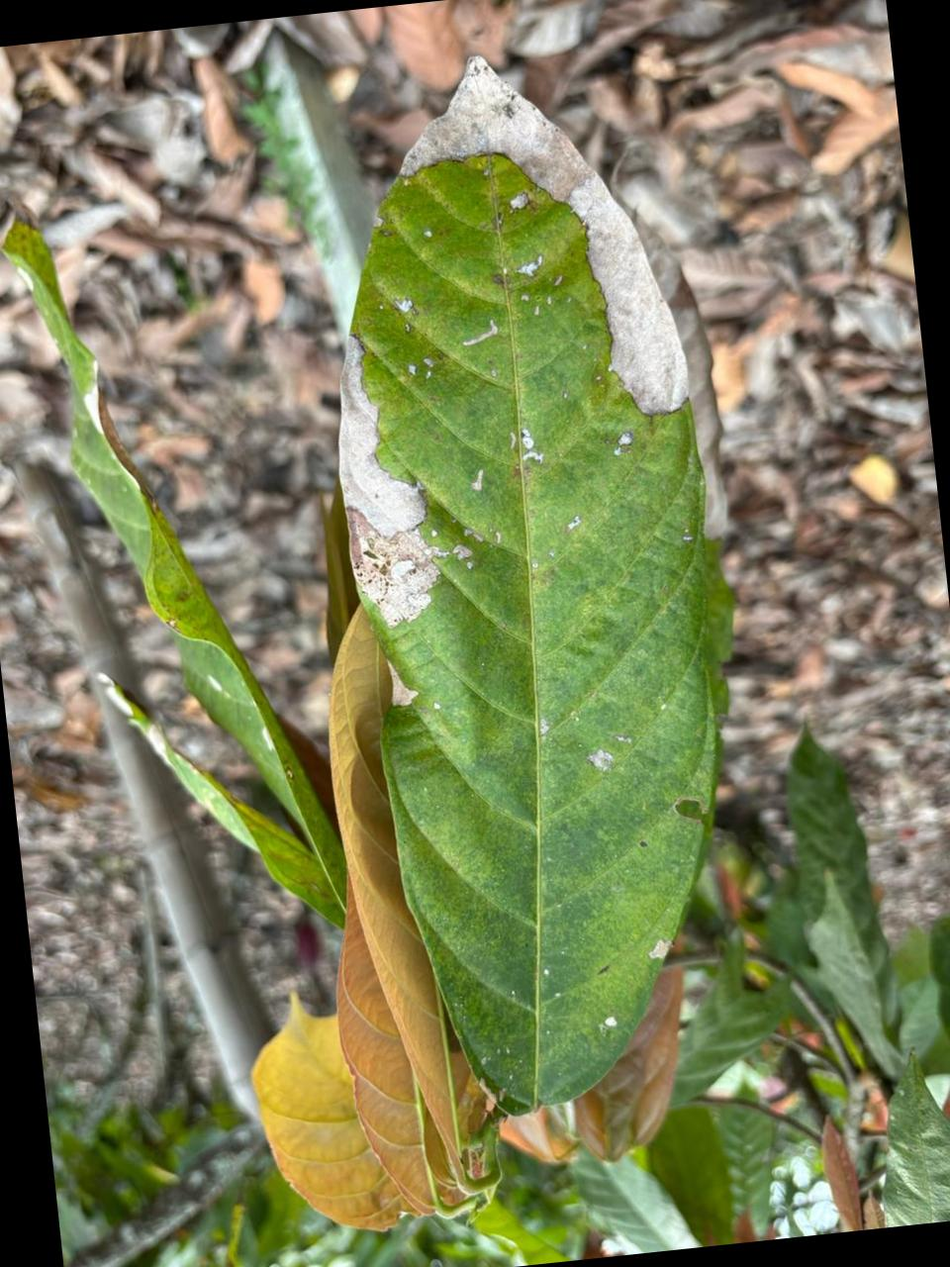Potasio: (340, 57, 726, 1112)
